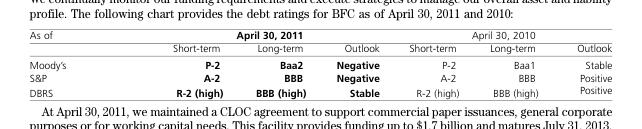table: (28, 28, 611, 98)
table column: (118, 28, 228, 98), (228, 28, 320, 98), (464, 28, 556, 98), (28, 28, 118, 98), (320, 28, 393, 98), (393, 28, 464, 98), (556, 28, 611, 98)
table column header: (28, 28, 611, 55)
table row: (28, 28, 611, 55), (28, 55, 611, 70), (28, 83, 611, 98), (28, 70, 611, 83)
